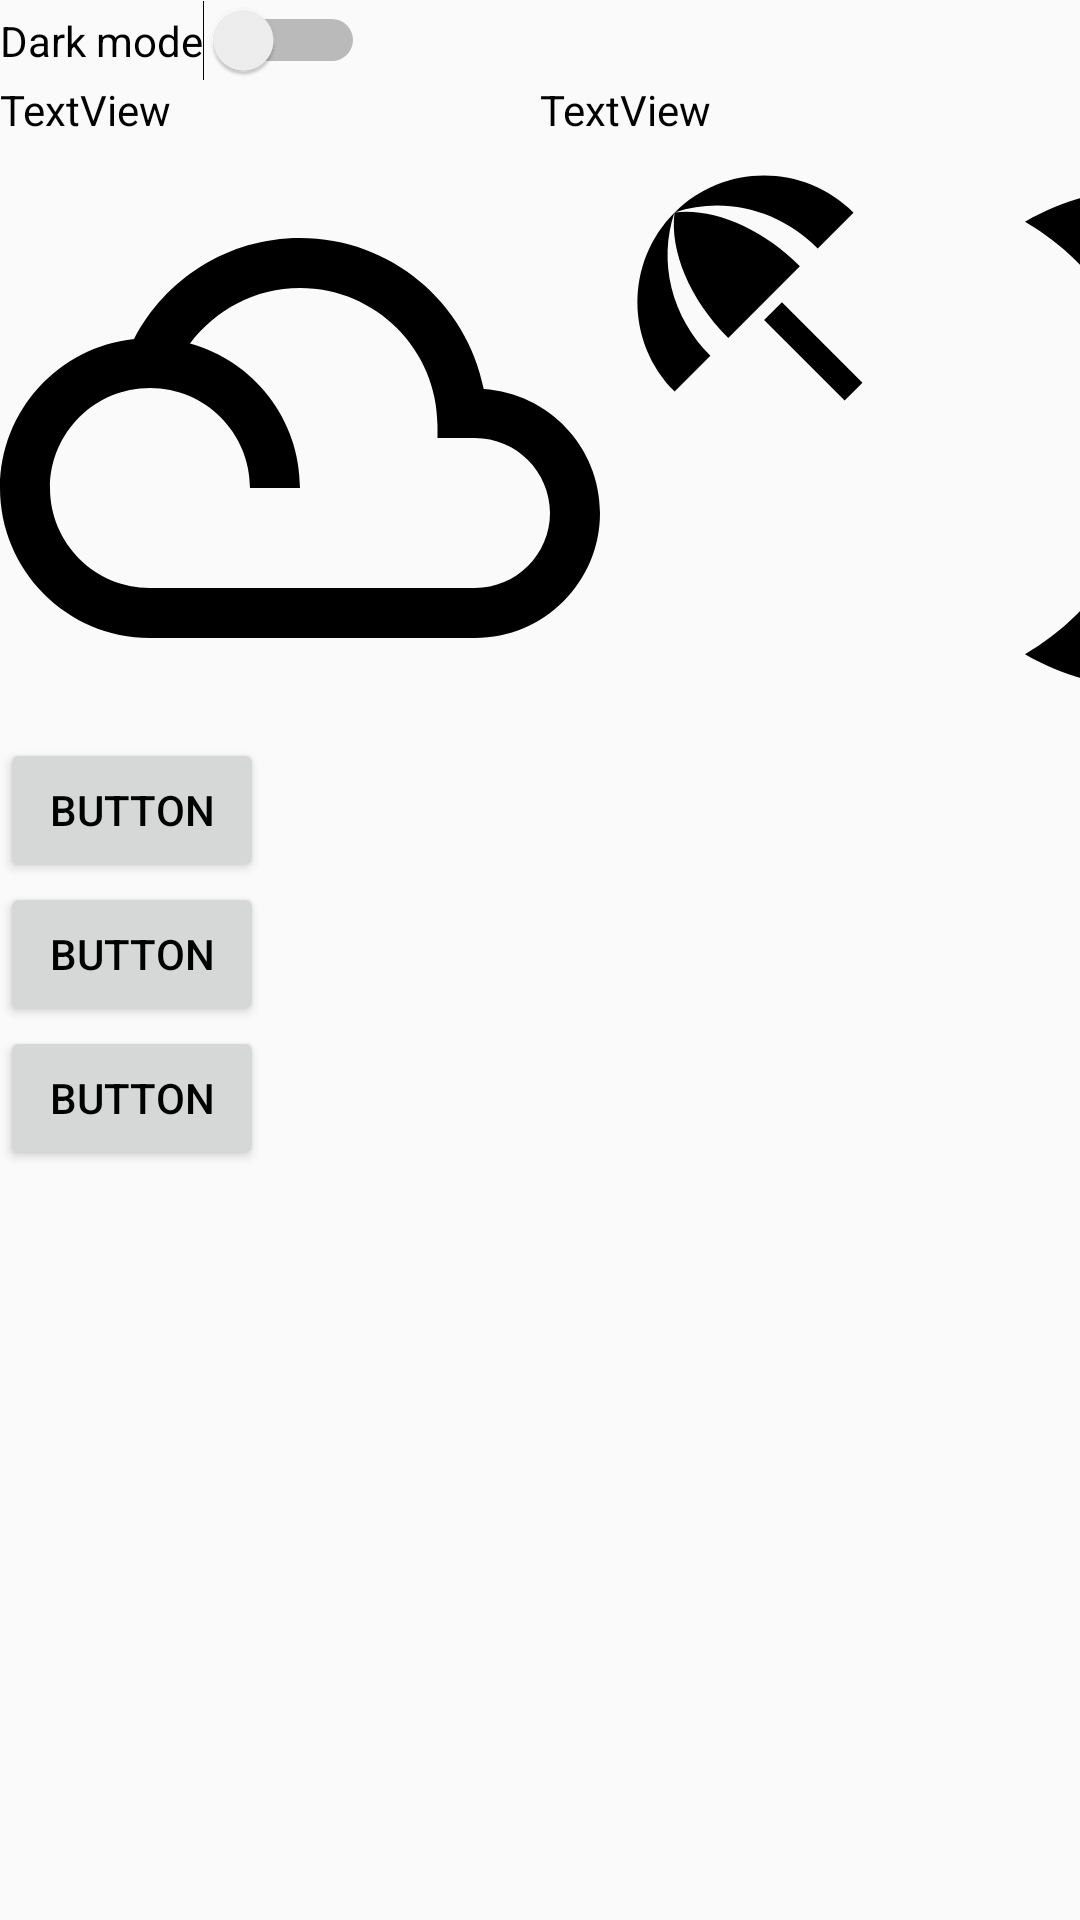

Screen size 1080×1920. Icon name, then its box in pixels as [x1=x1, y1=y1, x2=x2, y2=y2]:
beach access: [x1=637, y1=175, x2=863, y2=401]
